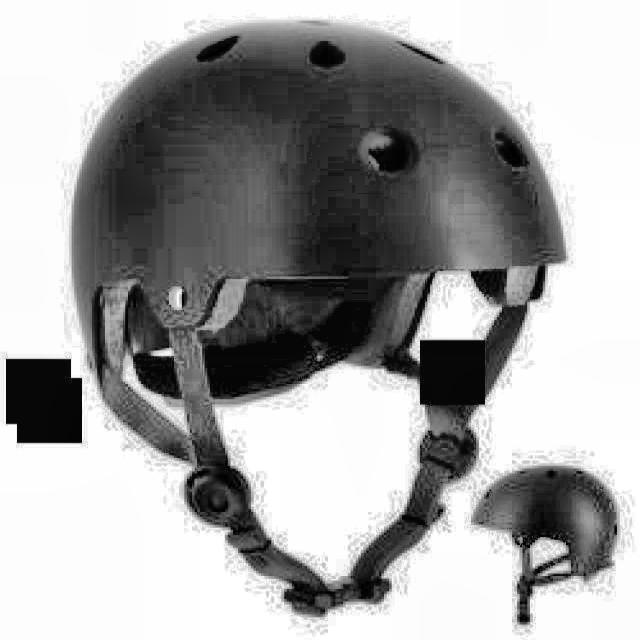Helmet: (66, 22, 571, 621)
